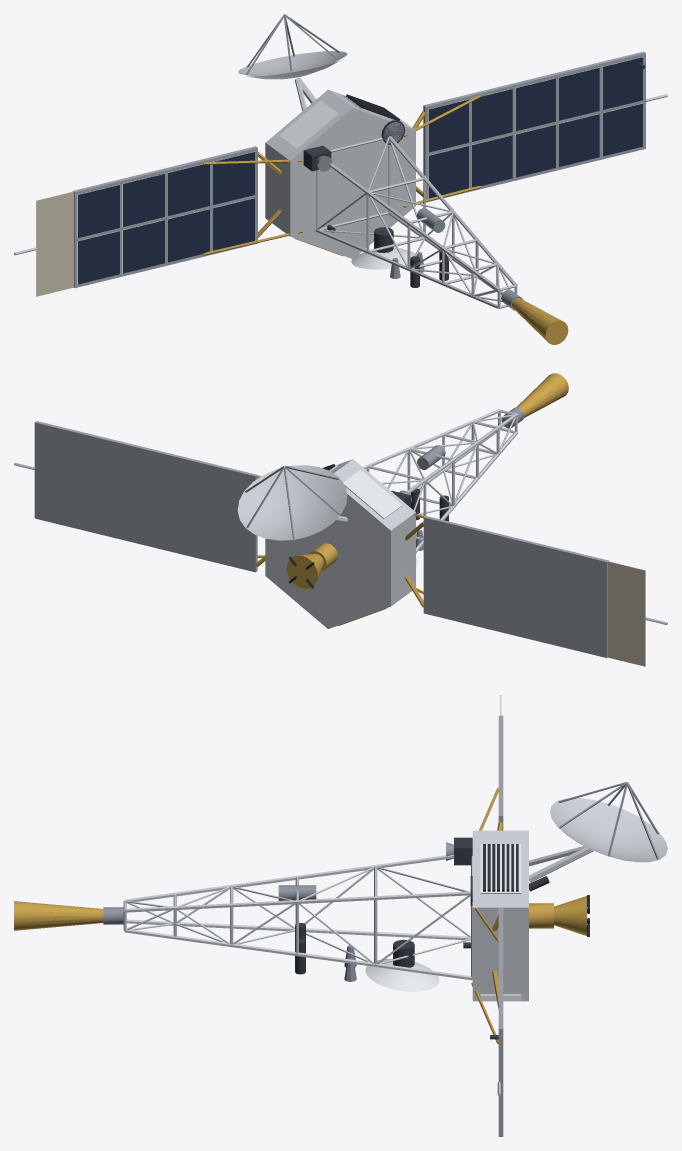
The model's file is mariner-2.glb.
The picture shows the model from 3 angles, top to bottom: view 1: azimuth 30°, elevation 25°; view 2: azimuth 150°, elevation 25°; view 3: azimuth 270°, elevation 25°; orthographic projection. The views are drawn at different scales.
Parts seen in each view (by area): view 1: body, solar-panel, foil; view 2: body, foil; view 3: body, foil.
Boxes of the visible parts, x1,y1,x2,y2 form: body: (14, 14, 667, 310); solar-panel: (78, 57, 642, 284); foil: (203, 95, 568, 344); body: (14, 407, 667, 666); foil: (255, 373, 568, 626); body: (103, 695, 667, 1136); foil: (14, 787, 586, 1044).
Bounding box in the file's own units: 5.41 × 1.55 × 4.18.
